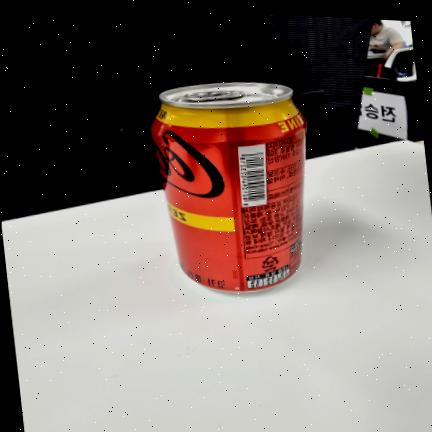can_coke_decaf: (151, 83, 307, 292)
